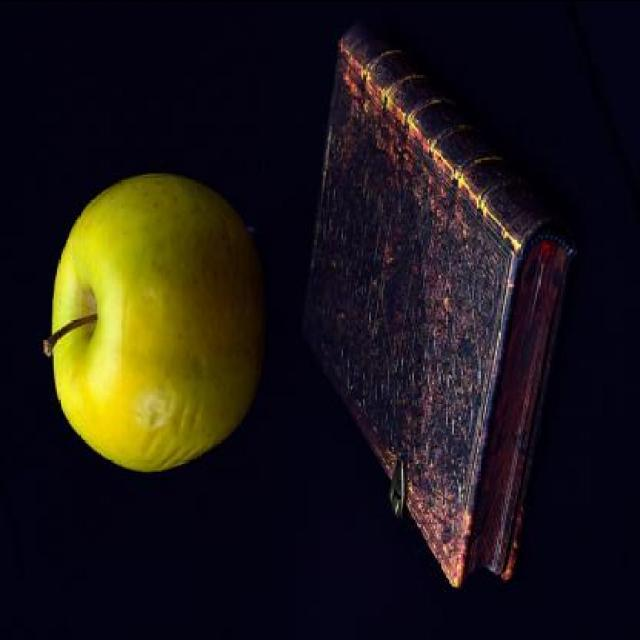Apple pie: (34, 168, 272, 476)
